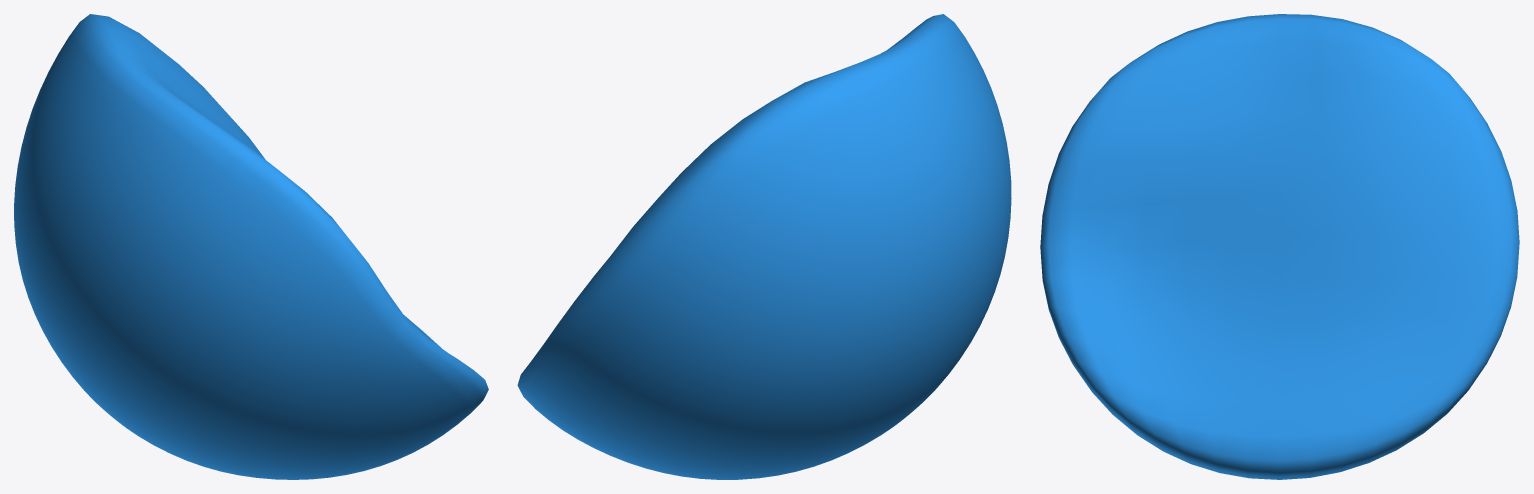
The model's file is akvaryumsu.fbx.
The picture shows the model from 3 angles, left to right: view 1: azimuth 30°, elevation 25°; view 2: azimuth 150°, elevation 25°; view 3: azimuth 270°, elevation 25°; orthographic projection. The views are drawn at different scales.
Parts seen in each view (by area): view 1: Sphere.001; view 2: Sphere.001; view 3: Sphere.001.
Boxes of the visible parts, <box> form: Sphere.001: <box>14,14,488,479</box>; Sphere.001: <box>517,14,1011,479</box>; Sphere.001: <box>1040,14,1519,479</box>.
Size of the model in its own units: 115 by 121 by 140.
